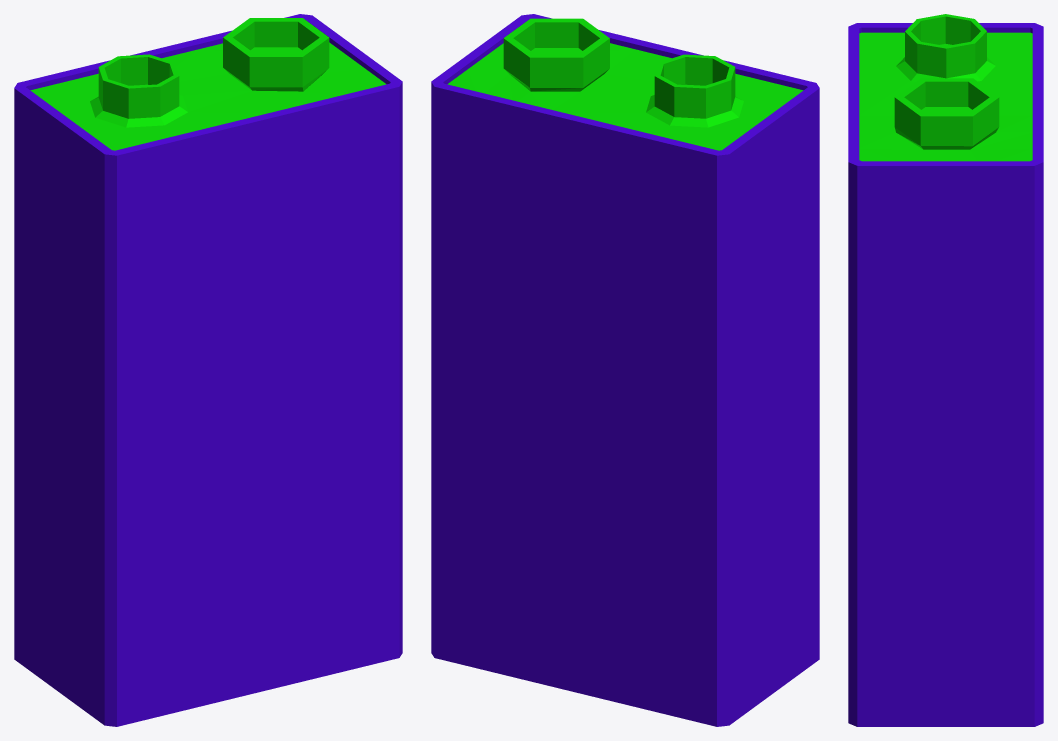
The model's file is V9_Battery_high.fbx.
3 renders of one model, left to right at view 1: azimuth 30°, elevation 25°; view 2: azimuth 150°, elevation 25°; view 3: azimuth 270°, elevation 25°, orthographic.
Parts seen in each view (by area): view 1: V9_Battery_high; view 2: V9_Battery_high; view 3: V9_Battery_high.
Part boxes in pixels (bbox=[...]): V9_Battery_high: bbox=[14, 14, 402, 726]; V9_Battery_high: bbox=[431, 14, 819, 726]; V9_Battery_high: bbox=[848, 14, 1043, 726].
Bounding box in the file's own units: 50.52 × 97.41 × 29.16.
